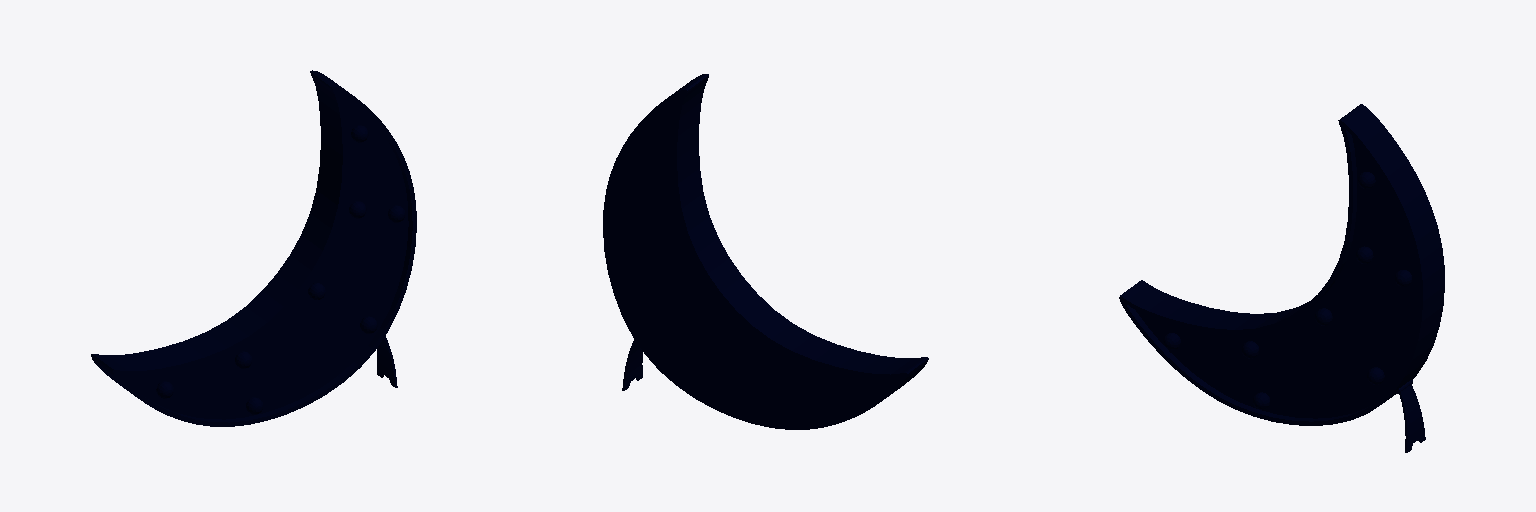
Rendered from Moon_nightlight.obj.
3 views of the same model, side by side, from view 1: azimuth 30°, elevation 25°; view 2: azimuth 150°, elevation 25°; view 3: azimuth 330°, elevation 25° (orthographic).
Parts seen in each view (by area): view 1: Moon_nightlight_LP_Plane.020, Moon_stand_LP_Plane.022; view 2: Moon_nightlight_LP_Plane.020, Moon_stand_LP_Plane.022; view 3: Moon_nightlight_LP_Plane.020, Moon_stand_LP_Plane.022.
Boxes of the visible parts, x1,y1,x2,y2 form: Moon_nightlight_LP_Plane.020: [91, 70, 416, 426]; Moon_stand_LP_Plane.022: [377, 336, 397, 387]; Moon_nightlight_LP_Plane.020: [603, 74, 928, 429]; Moon_stand_LP_Plane.022: [622, 339, 642, 390]; Moon_nightlight_LP_Plane.020: [1119, 104, 1444, 425]; Moon_stand_LP_Plane.022: [1396, 380, 1425, 452].
Size of the model in its own units: 0.24 by 0.2402 by 0.0357.